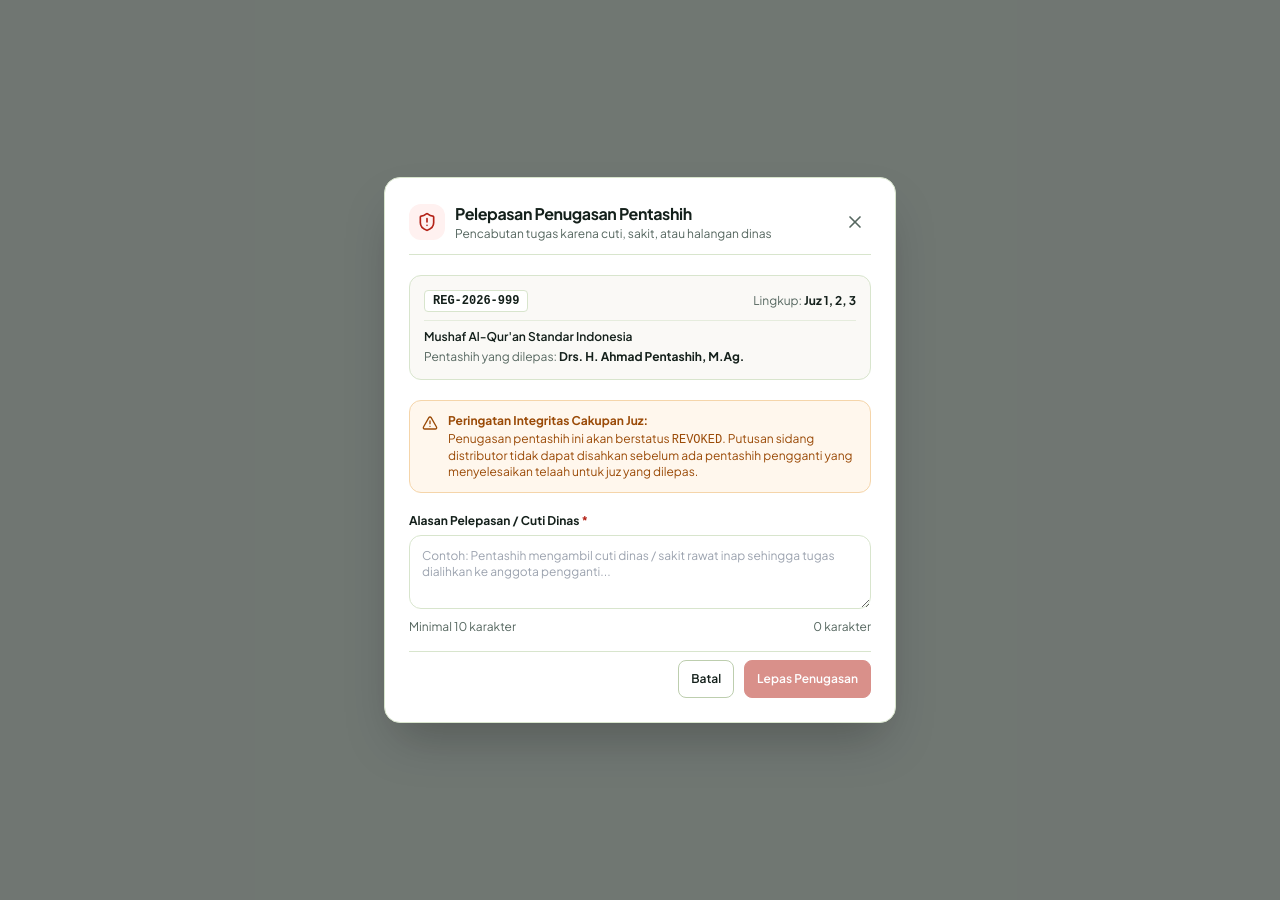
Test case: RevokePentashihAssignmentDialog Component (B-19b) › memvalidasi alasan pencabutan minimal 10 karakter sebelum mengizinkan submit
Expected: the button "Lepas Penugasan" is disabled, [744,660,871,698]
Replace the text in the text box labelled "Alasan Pelepasan / Cuti Dinas *" with "Cuti sakit" at (640, 572), box [409,535,871,609]
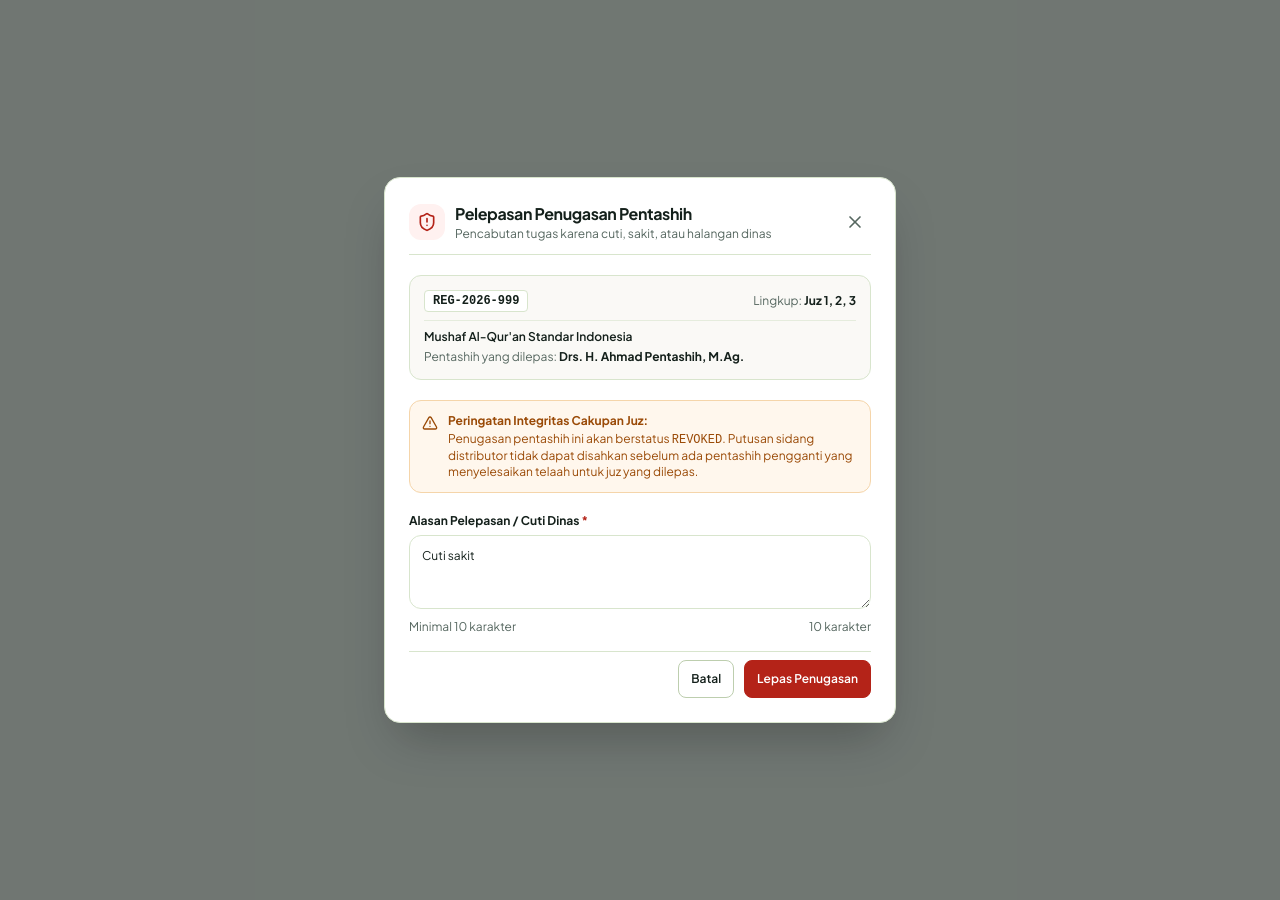
Replace the text in the text box labelled "Alasan Pelepasan / Cuti Dinas *" with "Cuti sak" at (640, 572), box [409,535,871,609]
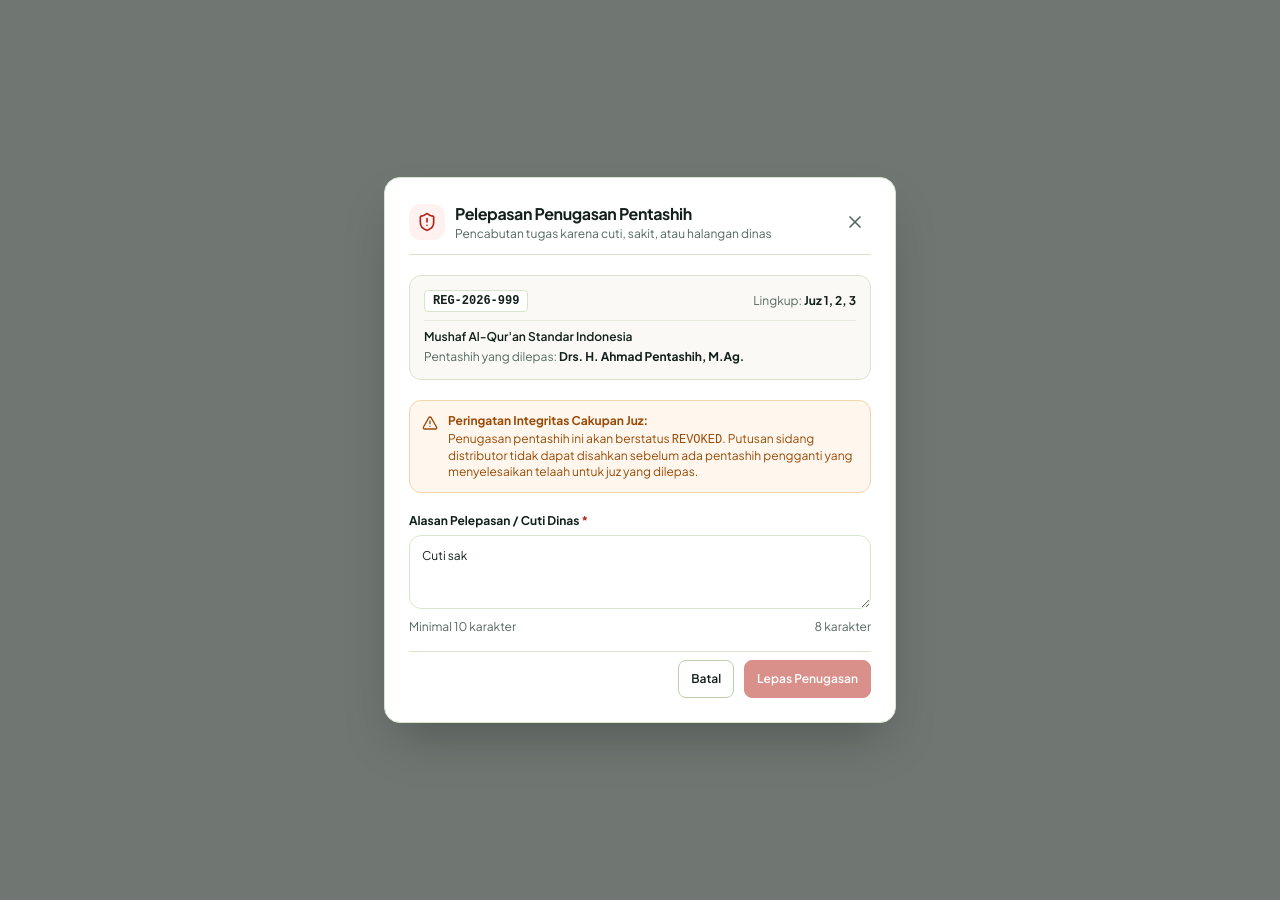
Result: the button "Lepas Penugasan" is disabled at [744,660,871,698]
Replace the text in the text box labelled "Alasan Pelepasan / Cuti Dinas *" with "Cuti ibadah umrah selama 14 hari" at (640, 572), box [409,535,871,609]
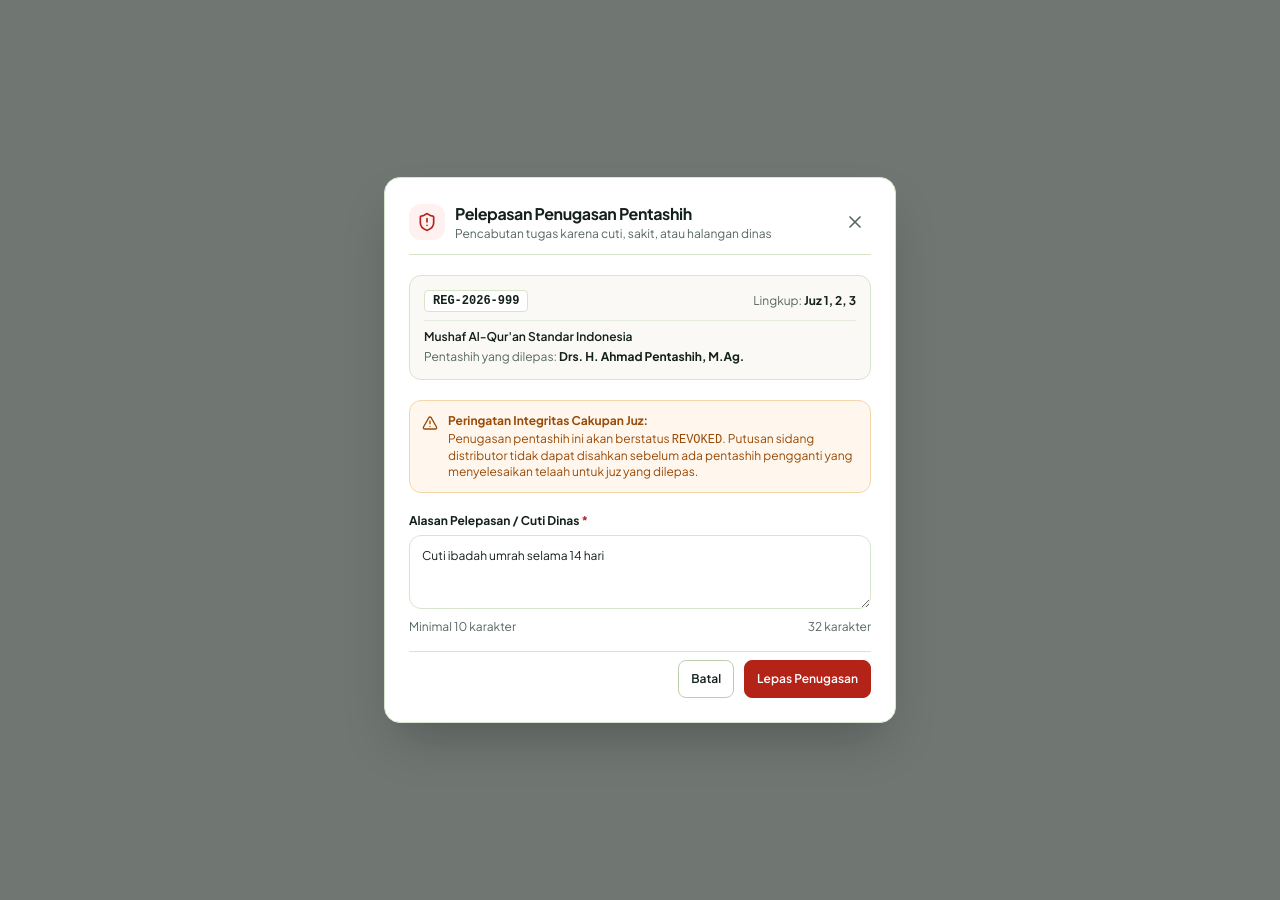
Result: the button "Lepas Penugasan" is enabled at [744,660,871,698]
